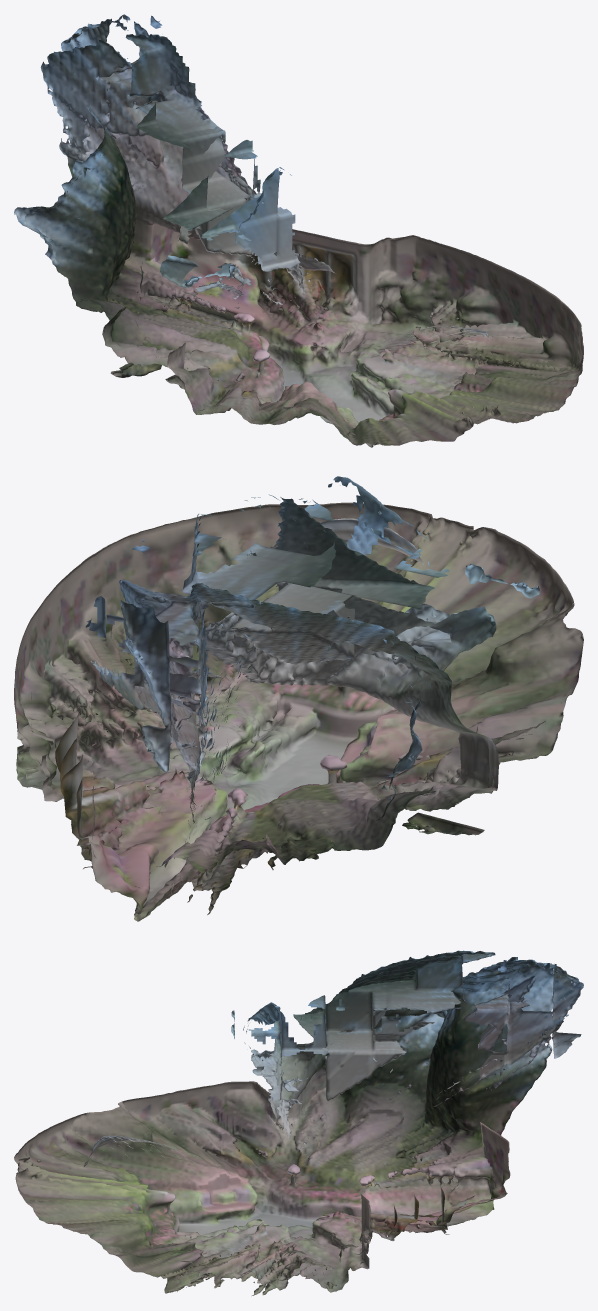
Rendered from petal-fairy-patio-1-1_collider.glb.
3 views of the same model, one above another, from view 1: azimuth 30°, elevation 25°; view 2: azimuth 150°, elevation 25°; view 3: azimuth 270°, elevation 25° (orthographic). The views are drawn at different scales.
Parts seen in each view (by area): view 1: world; view 2: world; view 3: world.
Boxes of the visible parts, x1,y1,x2,y2 form: world: [14, 14, 583, 447]; world: [14, 476, 583, 921]; world: [14, 950, 583, 1295].
Bounding box in the file's own units: 13.9 × 10.15 × 20.37.
